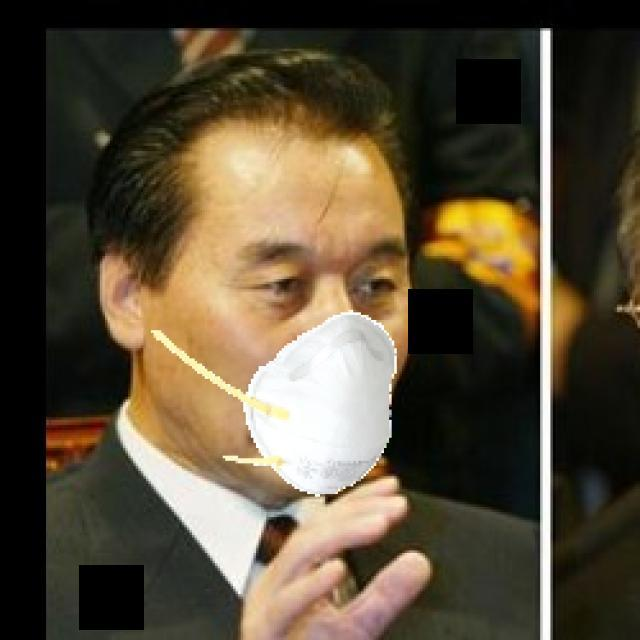n95: (127, 125, 398, 499)
